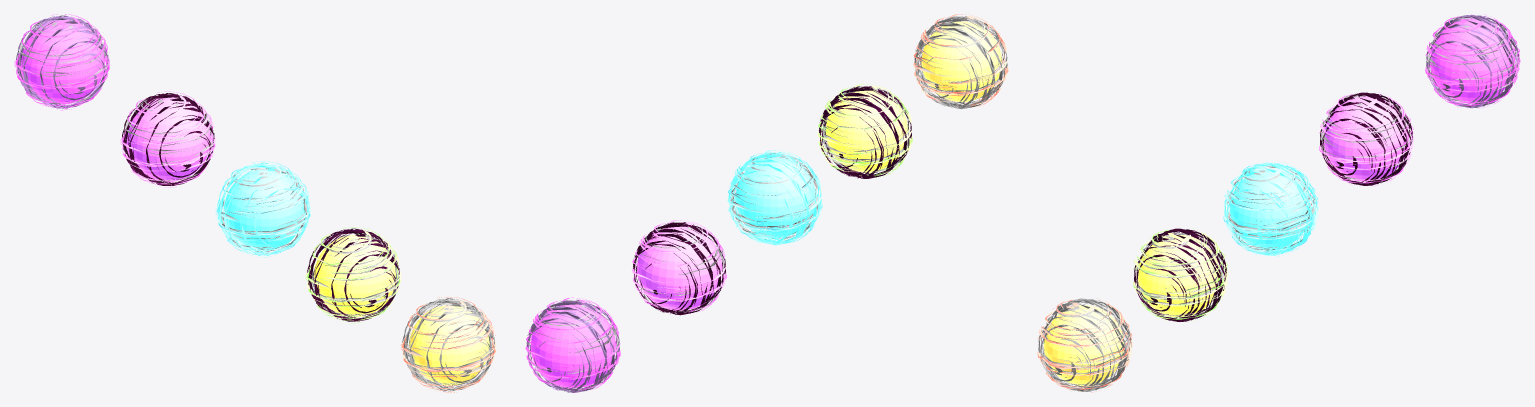
The model's file is Laser.fbx.
The picture shows the model from 3 angles, left to right: view 1: azimuth 30°, elevation 25°; view 2: azimuth 150°, elevation 25°; view 3: azimuth 330°, elevation 25°; orthographic projection.
Parts seen in each view (by area): view 1: Pink, Purple, Orange, Green, Blue; view 2: Purple, Pink, Green, Orange, Blue; view 3: Purple, Pink, Green, Blue, Orange.
Boxes of the visible parts, x1,y1,x2,y2 form: Pink: [14, 14, 109, 110]; Purple: [120, 91, 215, 187]; Orange: [400, 297, 496, 392]; Green: [305, 227, 401, 323]; Blue: [215, 161, 311, 257]; Purple: [631, 220, 726, 315]; Pink: [525, 297, 620, 392]; Green: [817, 84, 912, 178]; Orange: [913, 14, 1008, 109]; Blue: [727, 150, 822, 245]; Purple: [1319, 92, 1414, 186]; Pink: [1425, 14, 1520, 108]; Green: [1133, 228, 1228, 322]; Blue: [1223, 162, 1318, 256]; Orange: [1037, 298, 1132, 392].
Size of the model in its own units: 332 by 329 by 2997.
